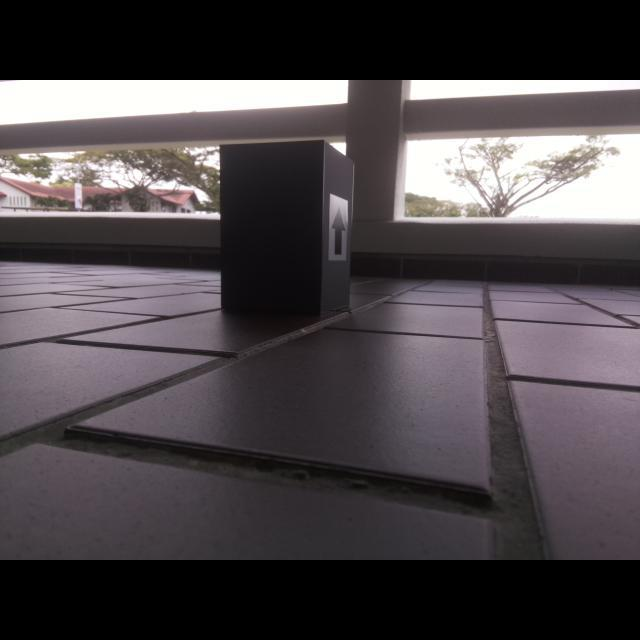UP: (331, 205, 347, 256)
